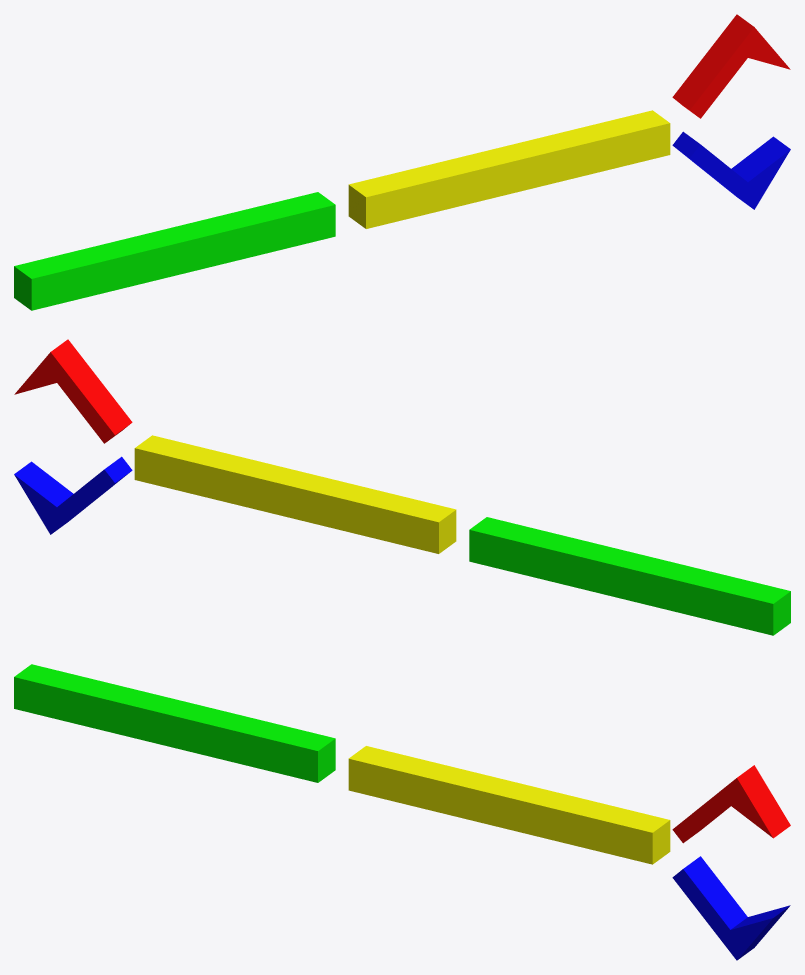
The model's file is id_dash.dae.
The picture shows the model from 3 angles, top to bottom: view 1: azimuth 30°, elevation 25°; view 2: azimuth 150°, elevation 25°; view 3: azimuth 330°, elevation 25°; orthographic projection.
Visible parts, largest first — view 1: UNTERARM, OBERARM, SCHWENKER1, SCHWENKER2; view 2: UNTERARM, OBERARM, SCHWENKER1, SCHWENKER2; view 3: UNTERARM, OBERARM, SCHWENKER2, SCHWENKER1.
Boxes of the visible parts, box(x1,y1,x2,y2) form: UNTERARM: box(348, 110, 670, 228); OBERARM: box(14, 192, 335, 310); SCHWENKER1: box(672, 14, 790, 118); SCHWENKER2: box(672, 131, 790, 209); UNTERARM: box(134, 435, 456, 553); OBERARM: box(469, 517, 790, 635); SCHWENKER1: box(14, 339, 132, 443); SCHWENKER2: box(14, 456, 132, 534); UNTERARM: box(348, 746, 670, 864); OBERARM: box(14, 664, 335, 782); SCHWENKER2: box(672, 856, 790, 960); SCHWENKER1: box(672, 765, 790, 843).
Bounding box in the file's own units: 1248 × 287 × 50.
